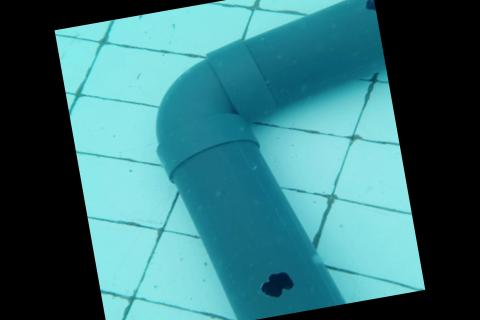kebocoran: (255, 267, 297, 299), (361, 0, 376, 15)
